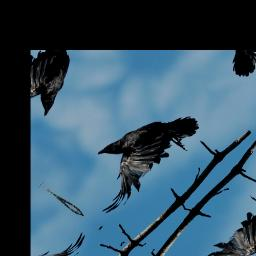Crow: (64, 91, 208, 225)
